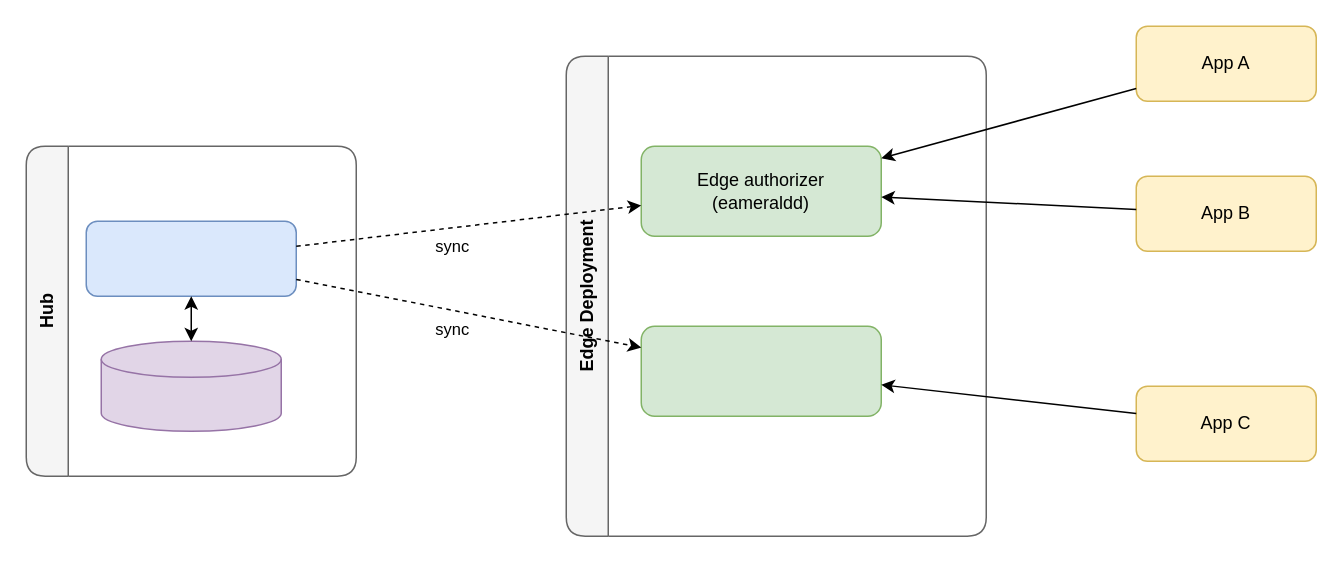
The diagram is 1343 pixels wide and 563 high, and some of its shapes have lost their labels. Here are the shapes that lost their labels. From the top down, the centre of each, then its label:
At (190,258): "Hub directory".
At (190,385): "Postgres".
At (760,370): "Edge authorizer eameraldd".
